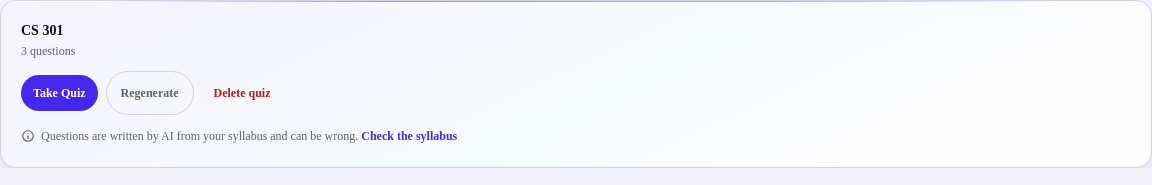
QuizCard with a quiz › asks for confirmation before deleting and lets the student cancel
The image size is (1152, 185).
Click the button "Delete quiz": (242, 93) 202,75 -> 282,111
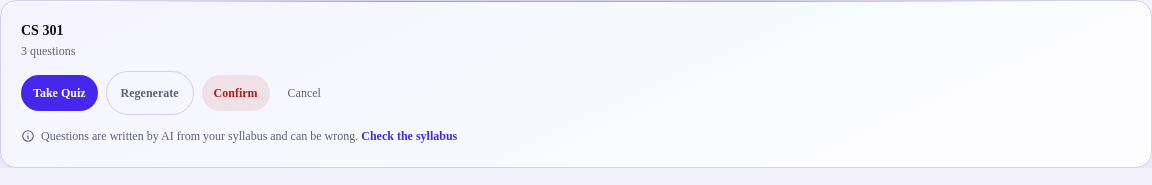
Now the button "Confirm" is shown, box 202,75 -> 270,111
Click the button "Cancel": (304, 93) 276,75 -> 333,111
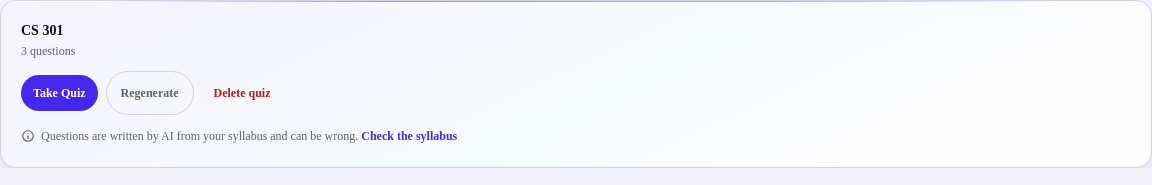
Expected: the text "3 questions" is shown, 21,43 -> 75,59
Now the button "Delete quiz" is shown, box 202,75 -> 282,111
